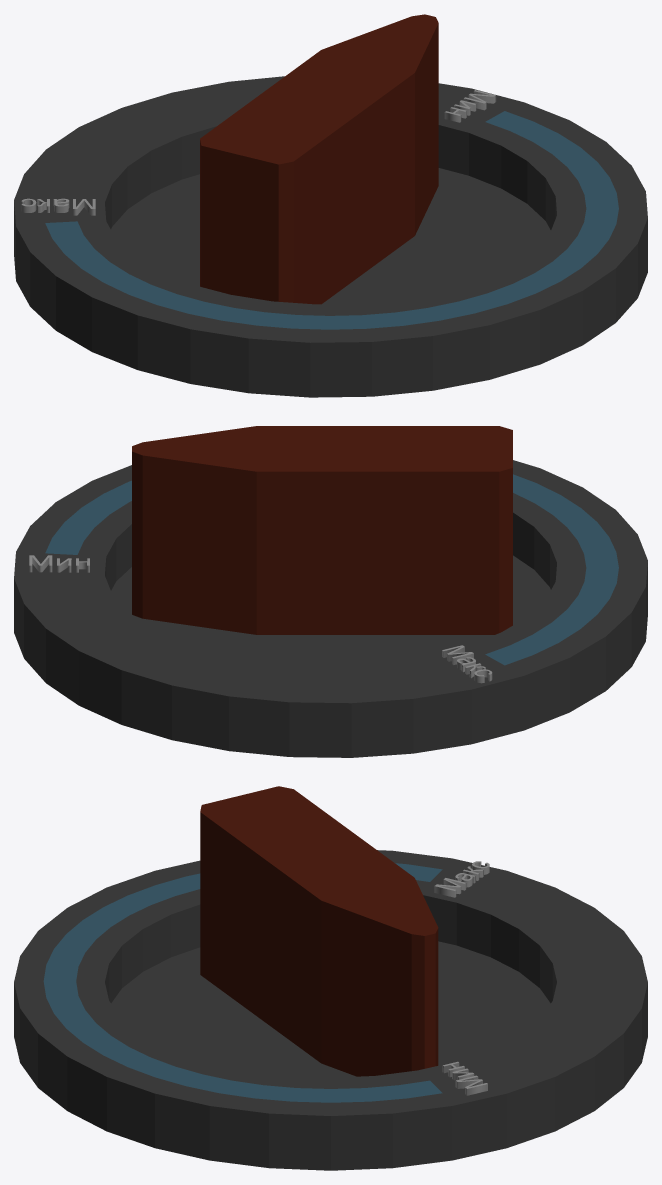
The model's file is Load_switch.fbx.
The picture shows the model from 3 angles, top to bottom: view 1: azimuth 30°, elevation 25°; view 2: azimuth 150°, elevation 25°; view 3: azimuth 270°, elevation 25°; orthographic projection.
Visible parts, largest first — view 1: Body, Head; view 2: Body, Head; view 3: Body, Head.
Part boxes in pixels (left/top/right/bottom): Body: left=14, top=76, right=647, bottom=397; Head: left=200, top=14, right=438, bottom=304; Body: left=14, top=460, right=647, bottom=757; Head: left=132, top=426, right=512, bottom=634; Body: left=14, top=850, right=647, bottom=1170; Head: left=200, top=786, right=438, bottom=1076.
Bounding box in the file's own units: 62.45 × 18.99 × 62.45.
